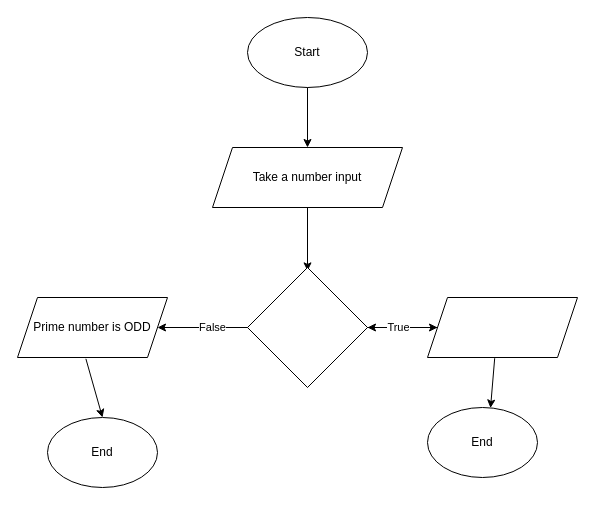
This 595x505 diagram has some shape labels left out. Each missing label, with the box of its shape:
Number % 2 =0: (246, 266, 368, 388)
Prime Number is Even: (426, 296, 578, 358)
